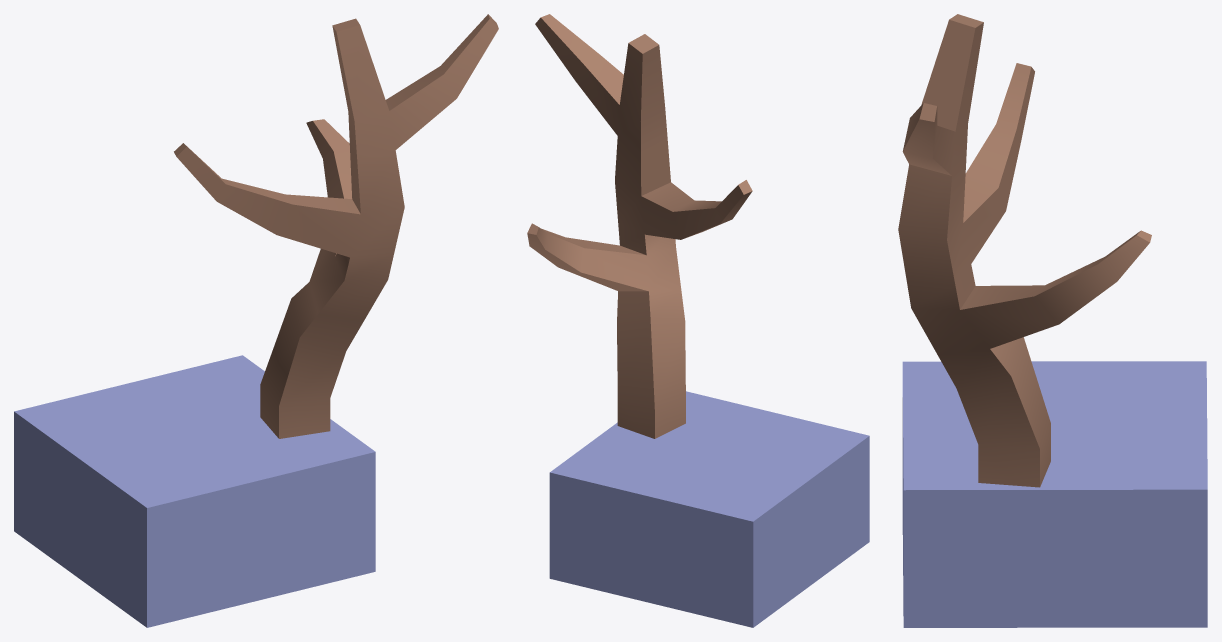
Rendered from treeMedium.fbx.
3 renders of one model, left to right at view 1: azimuth 30°, elevation 25°; view 2: azimuth 150°, elevation 25°; view 3: azimuth 270°, elevation 25°, orthographic. The views are drawn at different scales.
Parts seen in each view (by area): view 1: treeMedium; view 2: treeMedium; view 3: treeMedium.
Boxes of the visible parts, <box> form: treeMedium: <box>14,14,498,627</box>; treeMedium: <box>527,14,869,627</box>; treeMedium: <box>898,14,1207,627</box>.
Bounding box in the file's own units: 318 × 443 × 204.
